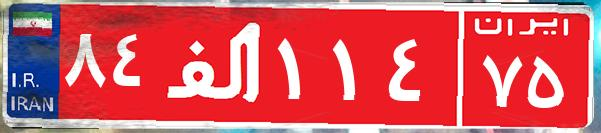1: (273, 28, 330, 110), (330, 28, 385, 110)
4: (385, 28, 445, 110), (110, 28, 158, 105)
5: (525, 38, 570, 115)
7: (475, 38, 525, 113)
8: (57, 26, 110, 107)
الف: (158, 15, 273, 115)
